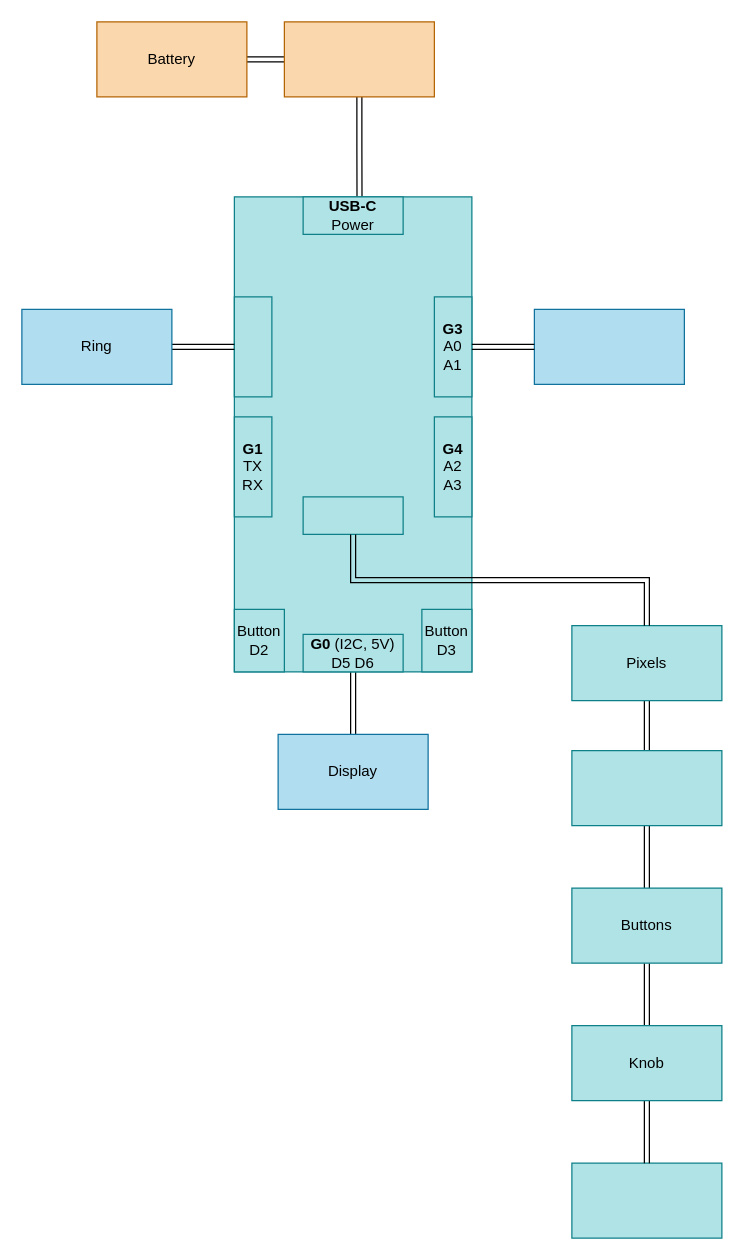
The diagram is 744 pixels wide and 1260 high, and some of its shapes have lost their labels. Here are the shapes that lost their labels. From the top down, the box of each, then its label:
(283, 21, 434, 97): Switch
(233, 296, 272, 397): G2 D8 D9
(533, 308, 684, 384): Button
(233, 196, 472, 672): Grove Pad
(302, 496, 403, 534): QWIIC
(571, 749, 722, 826): Movement
(571, 1162, 722, 1238): Buzzer
